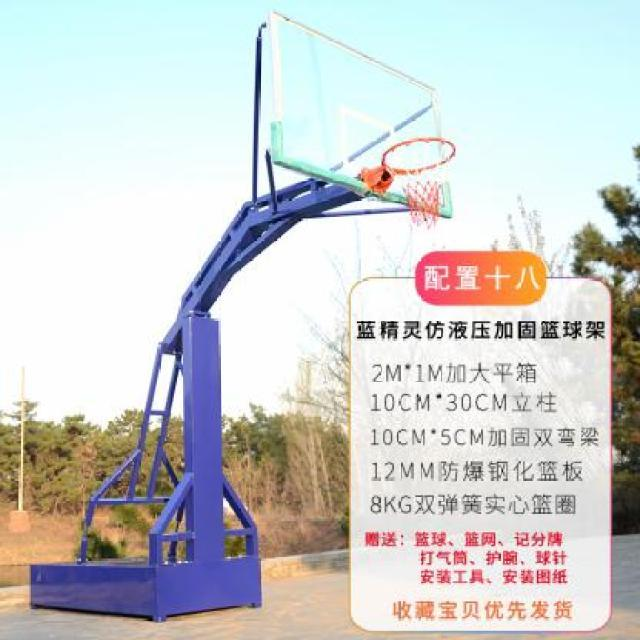rim: (379, 135, 456, 229)
